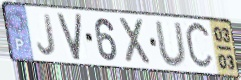6: (93, 16, 120, 63)
C: (184, 20, 216, 73)
J: (36, 12, 57, 57)
U: (153, 21, 189, 69)
V: (55, 12, 84, 62)
X: (118, 16, 154, 67)
